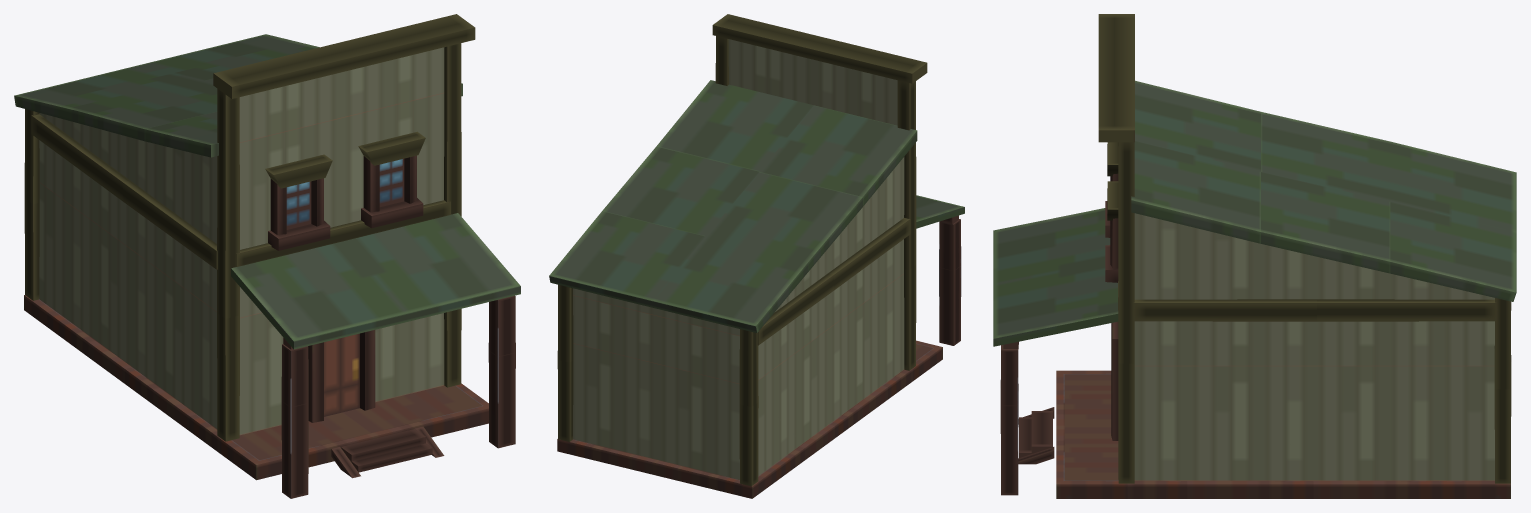
Rendered from house_v4_029.fbx.
3 renders of one model, left to right at view 1: azimuth 30°, elevation 25°; view 2: azimuth 150°, elevation 25°; view 3: azimuth 270°, elevation 25°, orthographic. The views are drawn at different scales.
Parts seen in each view (by area): view 1: house_v4_029; view 2: house_v4_029; view 3: house_v4_029.
Boxes of the visible parts, x1,y1,x2,y2 form: house_v4_029: [14, 14, 520, 498]; house_v4_029: [549, 14, 964, 498]; house_v4_029: [993, 14, 1516, 498].
Size of the model in its own units: 451 by 647 by 829.
